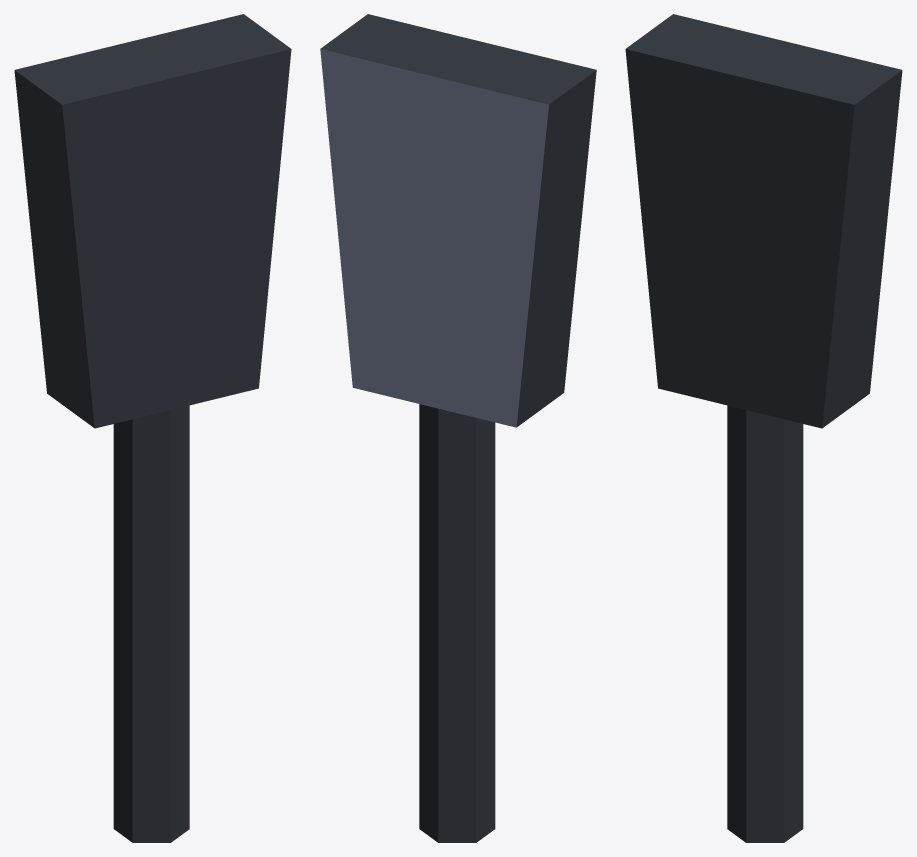
File: OneHalfLever.fbx
3 views of the same model, side by side, from view 1: azimuth 30°, elevation 25°; view 2: azimuth 150°, elevation 25°; view 3: azimuth 330°, elevation 25° (orthographic).
Parts seen in each view (by area): view 1: Cube; view 2: Cube; view 3: Cube.
Part boxes in pixels (box(x1,y1,x2,y2)): Cube: box(14, 14, 291, 842); Cube: box(320, 14, 596, 842); Cube: box(625, 14, 902, 842).
Size of the model in its own units: 303 by 109 by 973.
